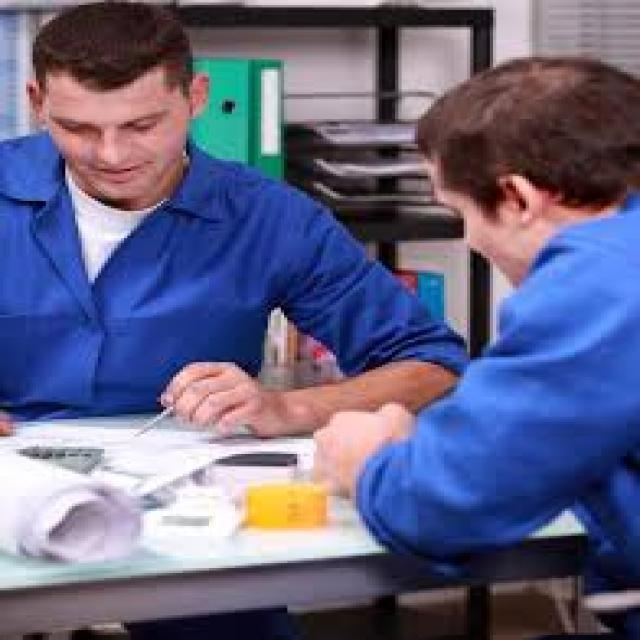No_Goggles: (51, 103, 185, 136)
No_Helmet: (22, 0, 192, 98)
